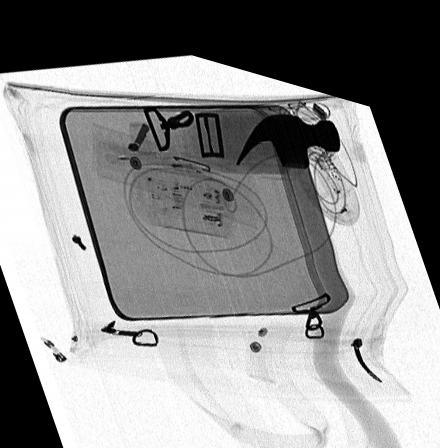Hammer: (234, 97, 404, 432)
